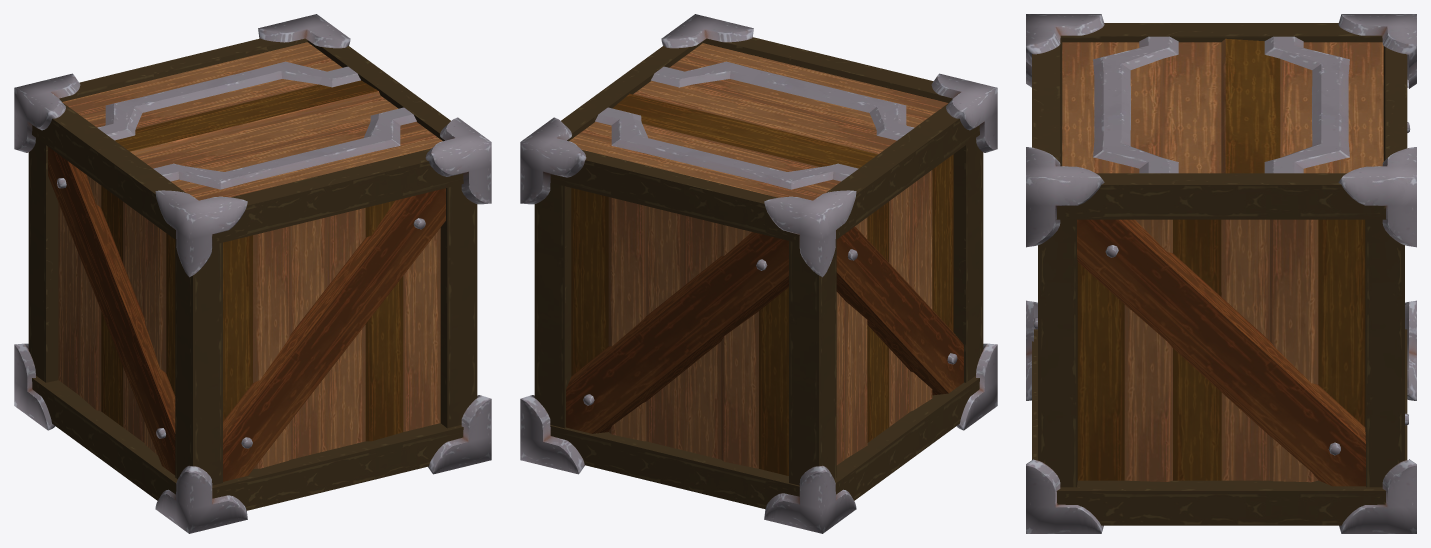
Rendered from Crate_Metal.gltf.
The picture shows the model from 3 angles, left to right: view 1: azimuth 30°, elevation 25°; view 2: azimuth 150°, elevation 25°; view 3: azimuth 270°, elevation 25°; orthographic projection. The views are drawn at different scales.
Visible parts, largest first — view 1: Crate_Metal; view 2: Crate_Metal; view 3: Crate_Metal.
Boxes of the visible parts, x1,y1,x2,y2 form: Crate_Metal: (14, 14, 491, 533); Crate_Metal: (520, 14, 997, 533); Crate_Metal: (1026, 14, 1416, 533).
Size of the model in its own units: 0.8639 by 0.8679 by 0.8659.
Materials: 2 (2 with a texture image).
